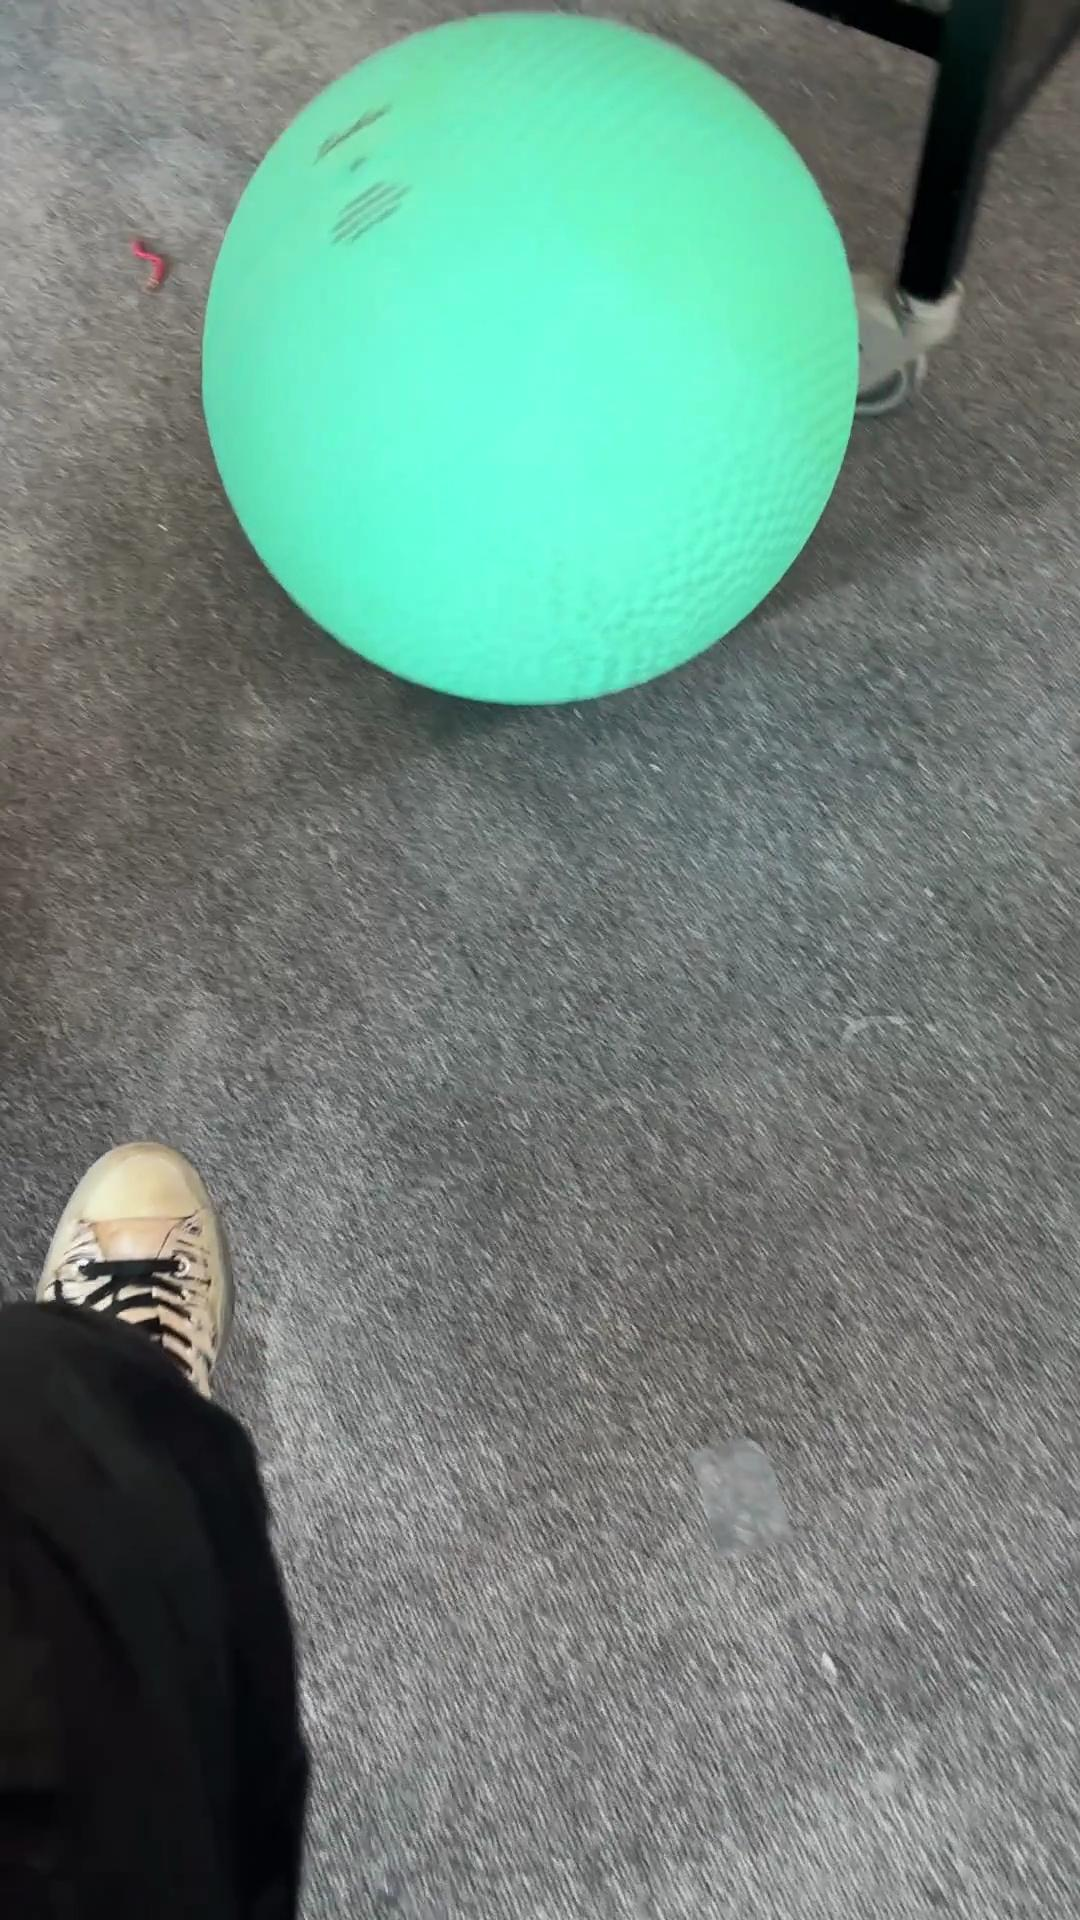ALGAE: (197, 8, 862, 708)
